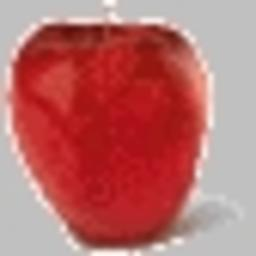apple: (6, 23, 210, 245)
